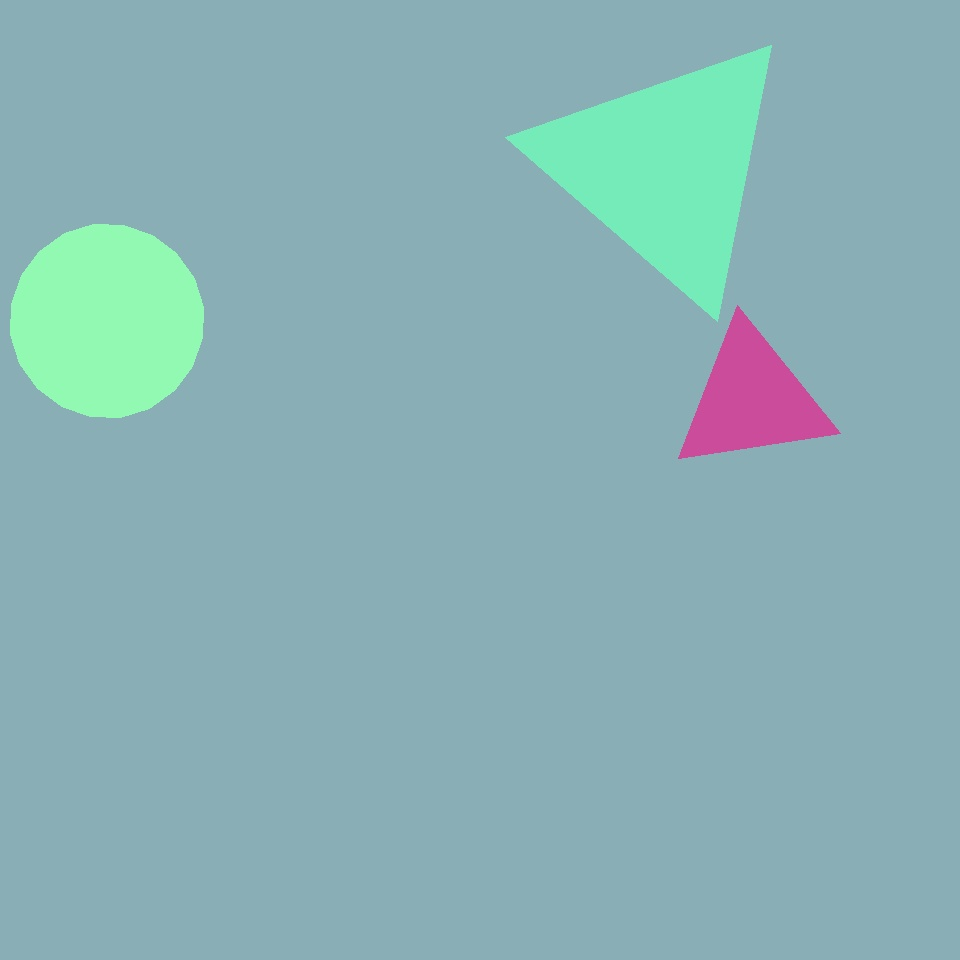circle: (532, 30, 798, 306), (671, 322, 833, 476)
square: (203, 400, 423, 621)
triangle: (550, 78, 840, 368), (11, 224, 204, 418)
